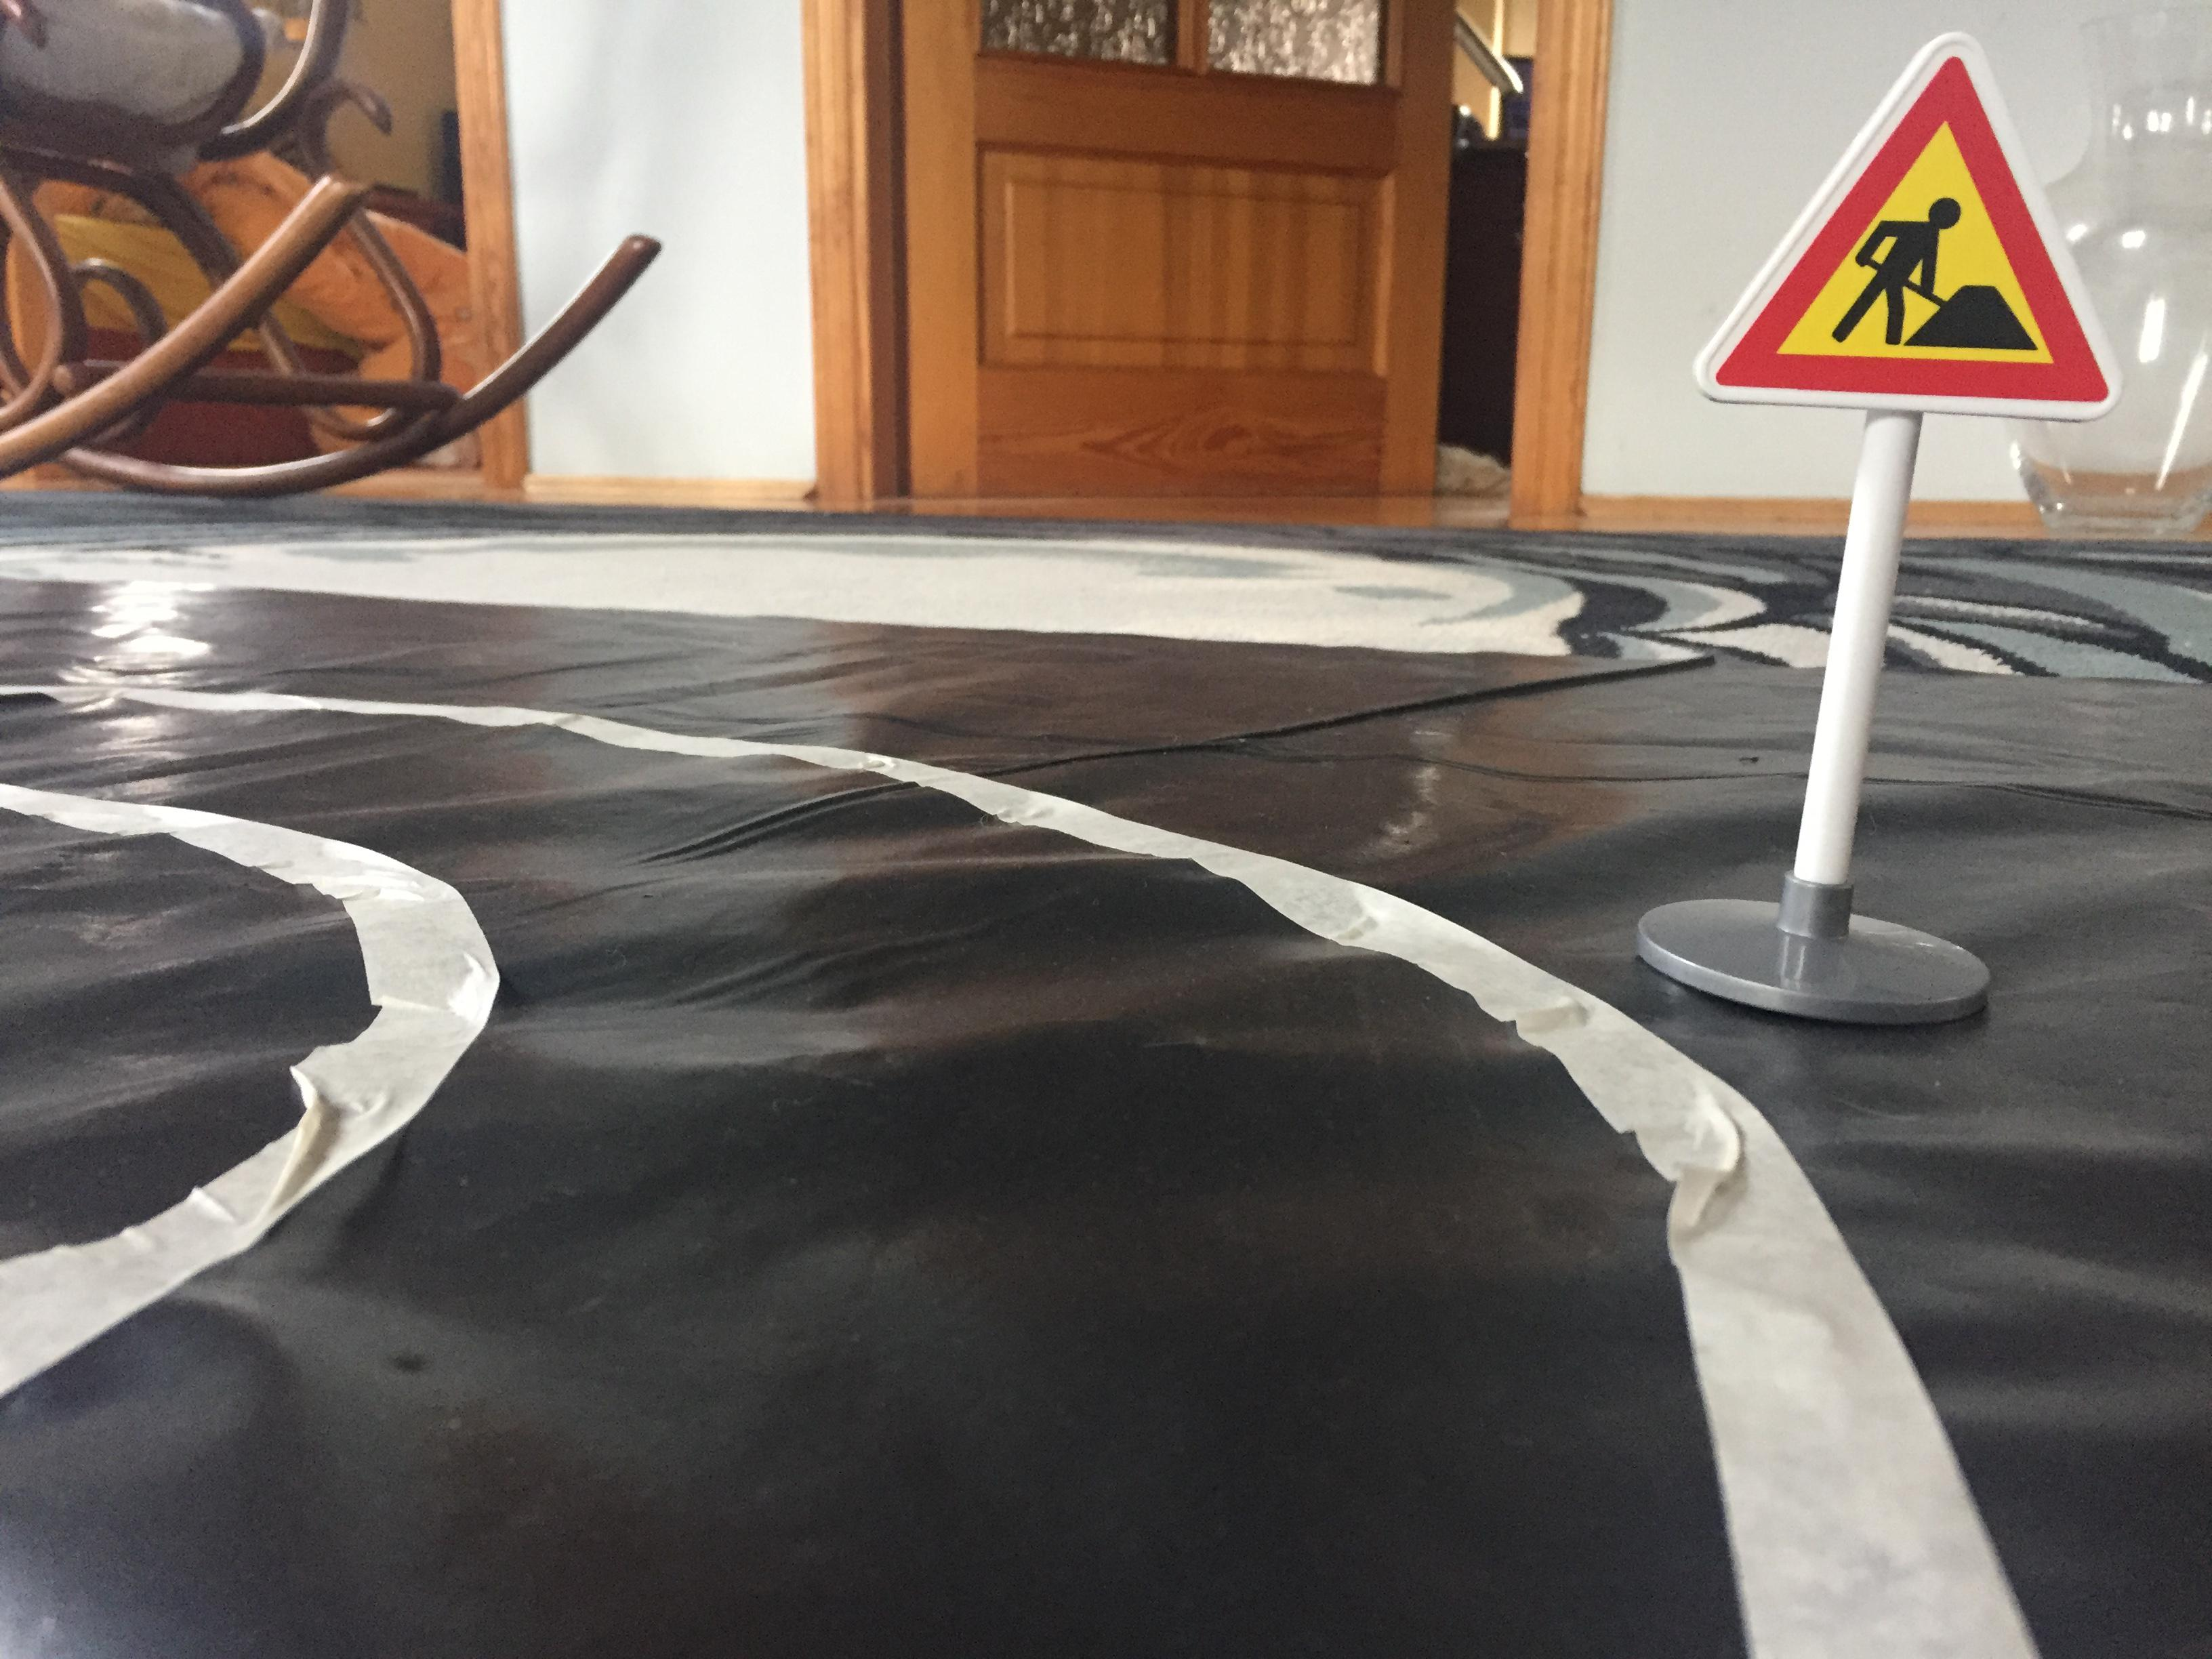work: (1688, 21, 2135, 429)
